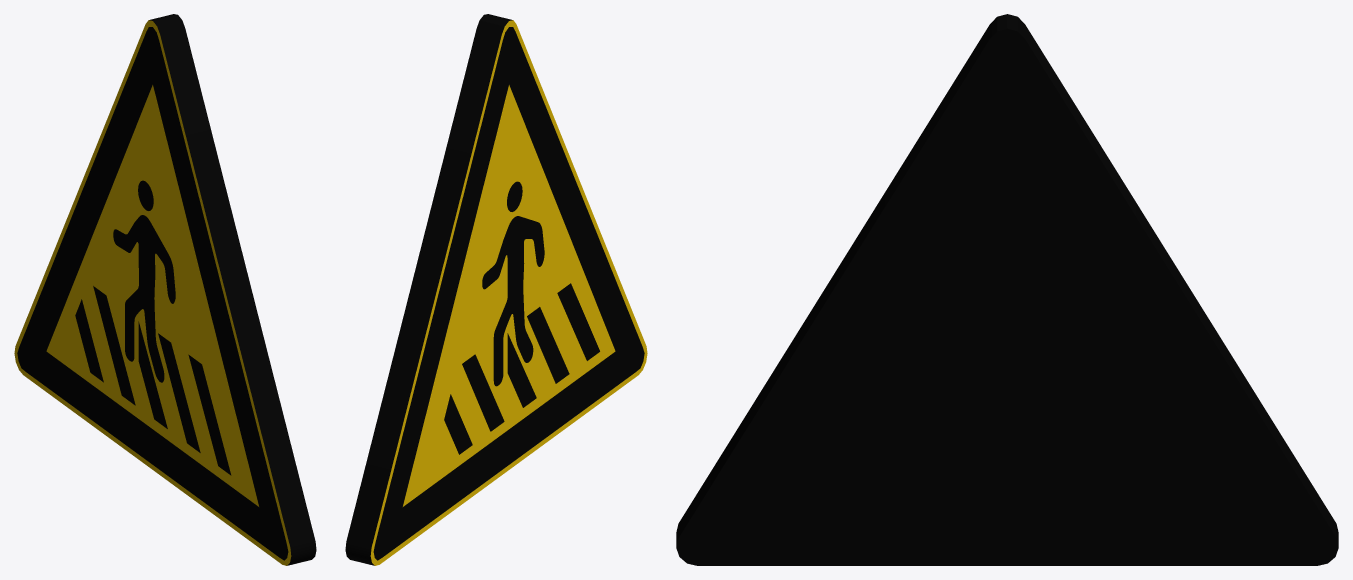
File: Pay_Attention_To_Pedestrians.fbx
3 renders of one model, left to right at view 1: azimuth 30°, elevation 25°; view 2: azimuth 150°, elevation 25°; view 3: azimuth 270°, elevation 25°, orthographic. The views are drawn at different scales.
Parts seen in each view (by area): view 1: Pay_Attention_To_Pedestrians; view 2: Pay_Attention_To_Pedestrians; view 3: Pay_Attention_To_Pedestrians.
Boxes of the visible parts, x1=… form: Pay_Attention_To_Pedestrians: x1=14, y1=14, x2=316, y2=565; Pay_Attention_To_Pedestrians: x1=345, y1=14, x2=647, y2=565; Pay_Attention_To_Pedestrians: x1=676, y1=14, x2=1338, y2=565.
Bounding box in the file's own units: 0.075 × 1.02 × 1.14.
